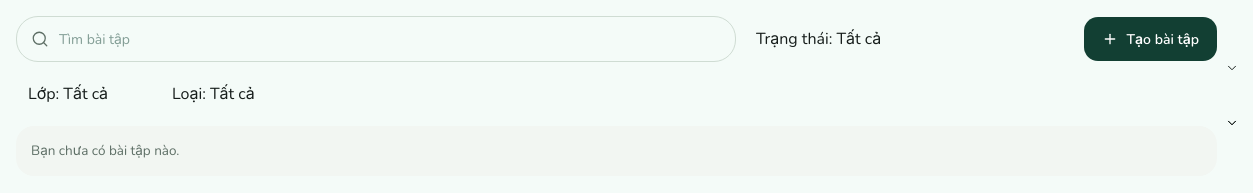
Scenario: AssignmentList › shows the no-match message when filters are active
Expected: the text "Bạn chưa có bài tập nào." is shown, left=16, top=126, right=1217, bottom=176
Select "Loại: Bonus" in the dropdown named "Loại" at (244, 94), box left=160, top=72, right=327, bottom=116
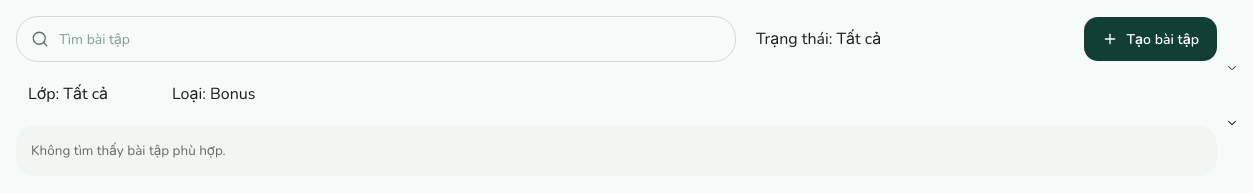
Result: the text "Không tìm thấy bài tập phù hợp." is shown at left=16, top=126, right=1217, bottom=176
